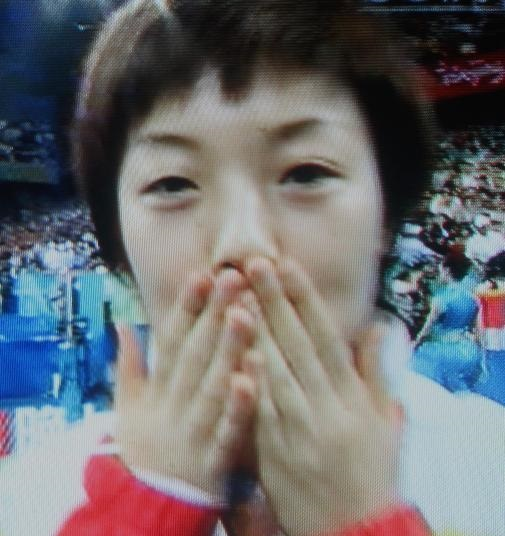face: (117, 52, 374, 401)
